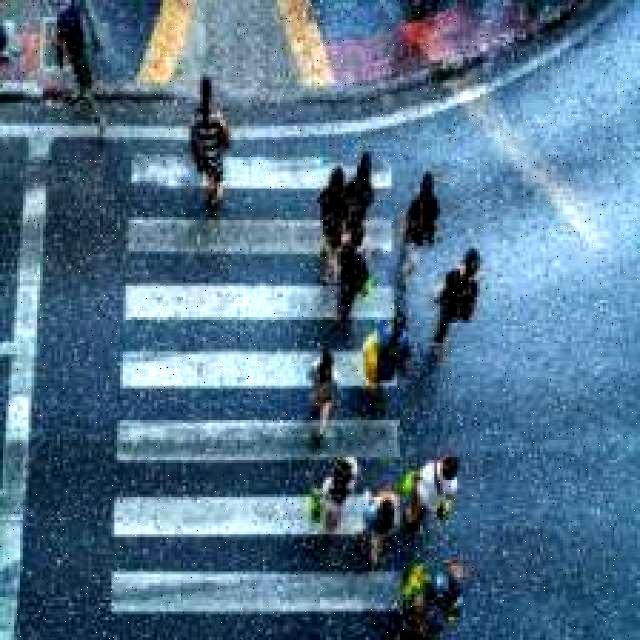crosswalk: (52, 67, 634, 639)
